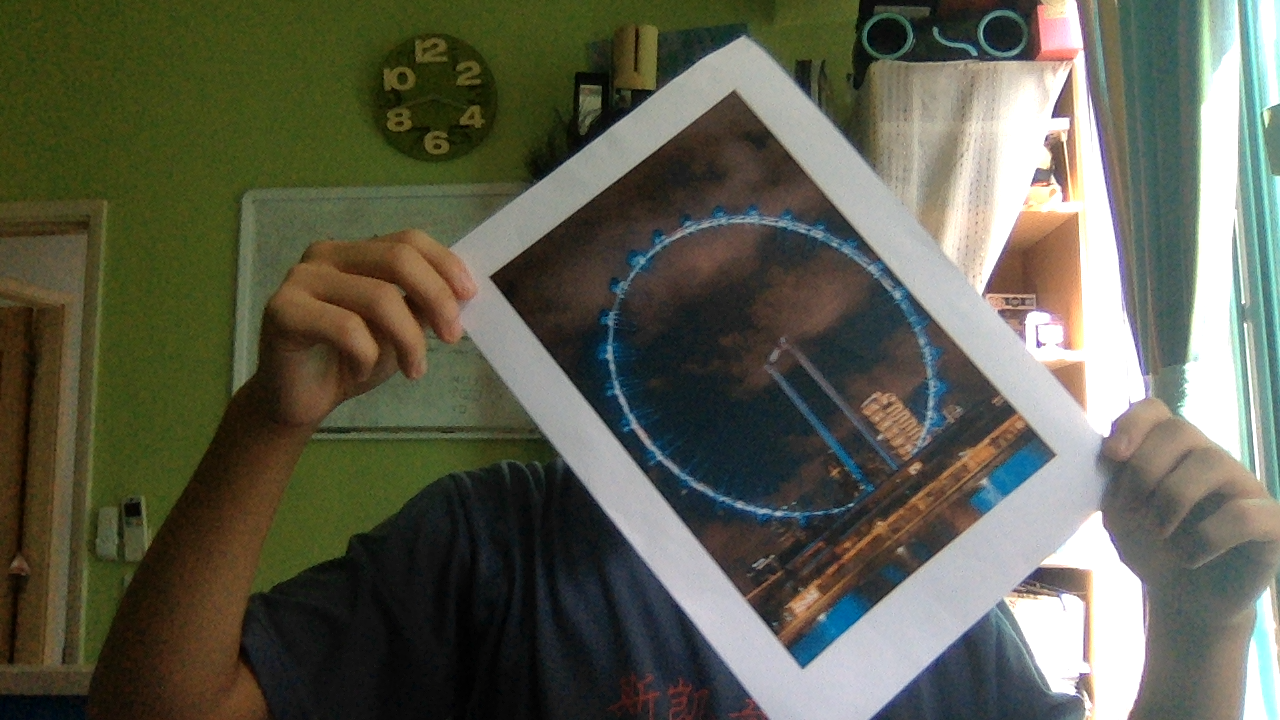Flyer: (565, 169, 1004, 622)
